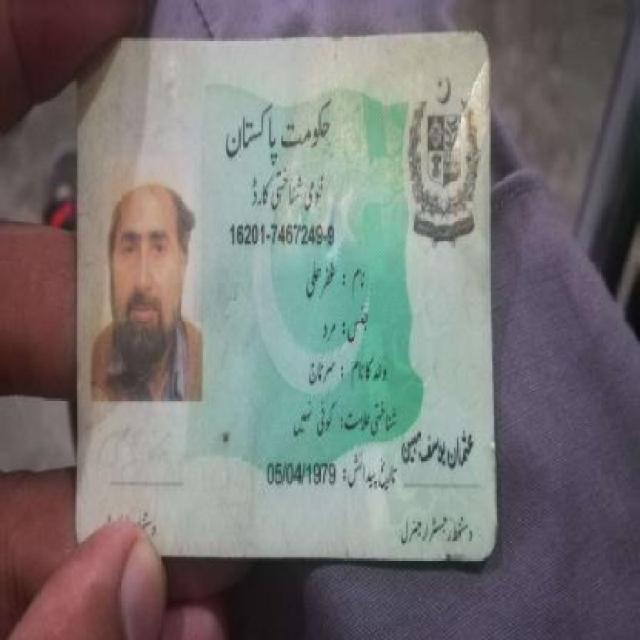Front: (56, 28, 507, 560)
